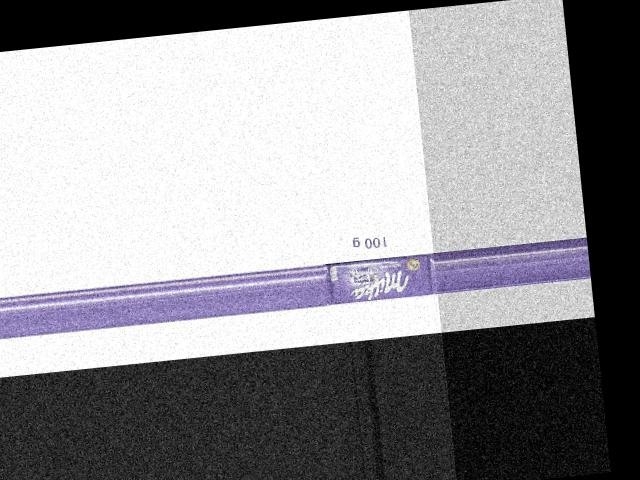chocolate: (321, 245, 434, 306)
